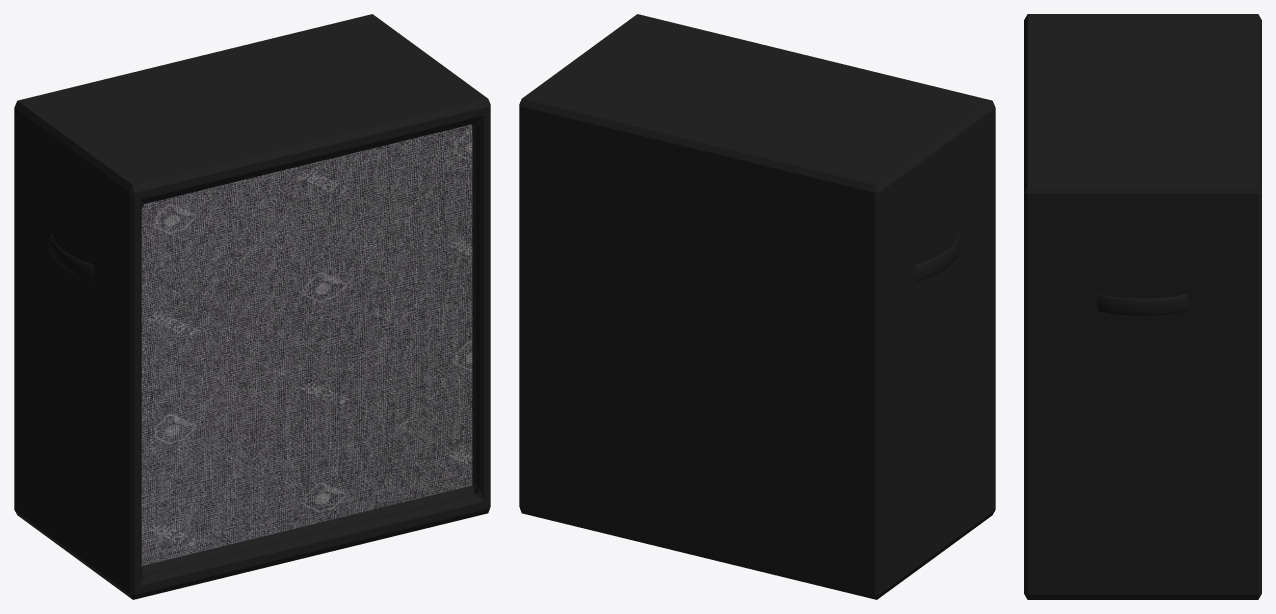
The picture shows the model from 3 angles, left to right: view 1: azimuth 30°, elevation 25°; view 2: azimuth 150°, elevation 25°; view 3: azimuth 270°, elevation 25°; orthographic projection.
Parts seen in each view (by area): view 1: Cube.012; view 2: Cube.012; view 3: Cube.012.
Boxes of the visible parts, x1=… form: Cube.012: x1=14, y1=14, x2=490, y2=599; Cube.012: x1=519, y1=14, x2=995, y2=599; Cube.012: x1=1024, y1=14, x2=1261, y2=599.
Size of the model in its own units: 2.26 by 2.33 by 1.22.
Materials: 2 (1 with a texture image).
